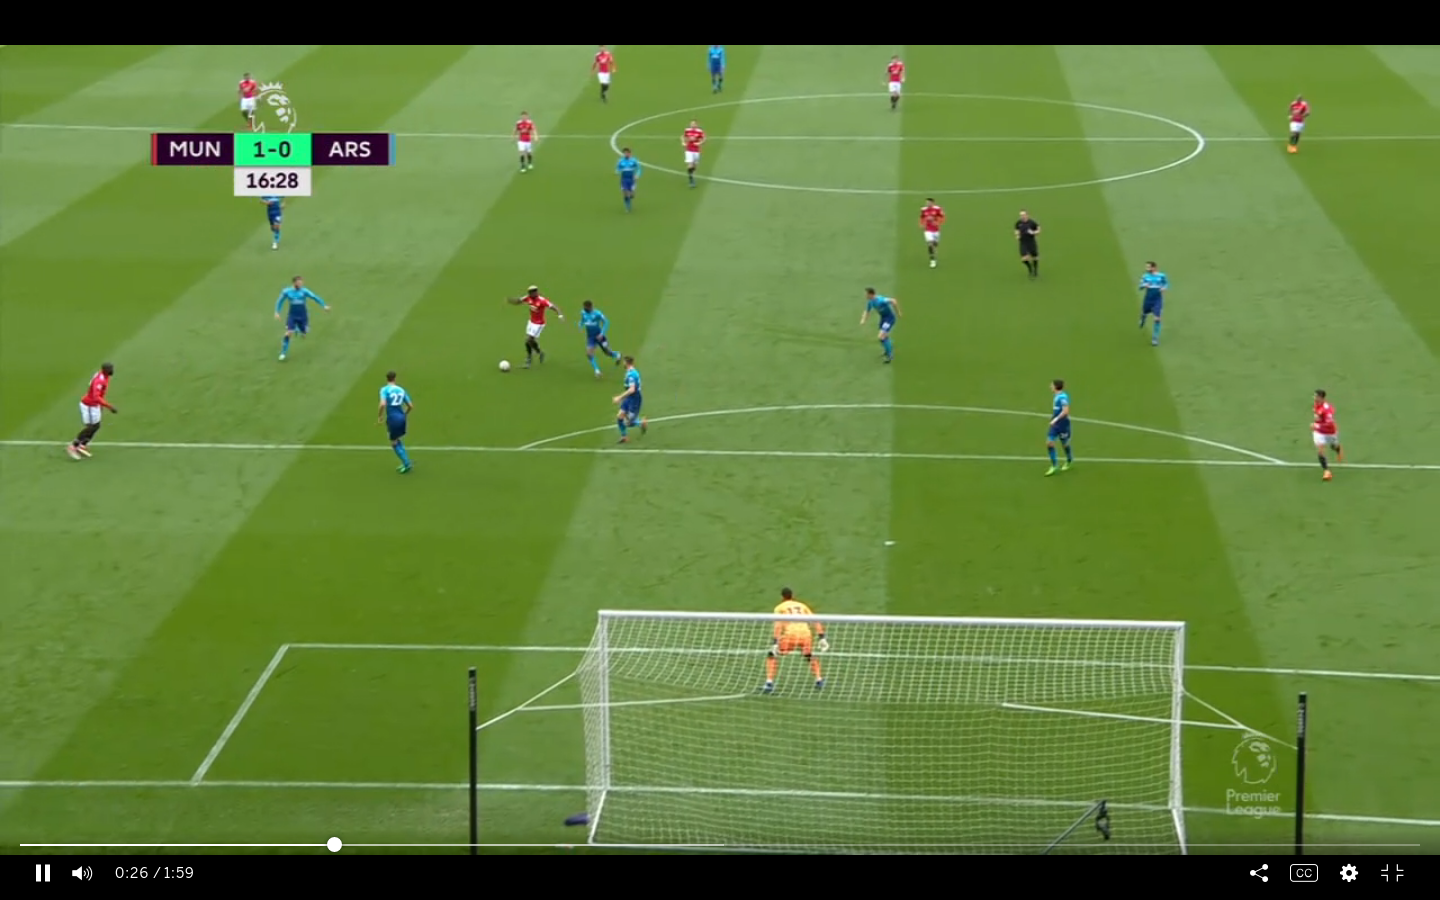referee: (1012, 208, 1044, 279)
soccer player: (759, 580, 830, 699), (368, 366, 422, 477), (268, 274, 332, 368), (73, 356, 119, 472), (508, 280, 561, 368), (1304, 382, 1348, 488), (855, 280, 905, 369), (1039, 371, 1078, 480), (572, 297, 622, 380), (612, 356, 653, 445), (1133, 254, 1173, 346), (910, 192, 952, 274), (504, 109, 539, 180), (590, 45, 627, 108), (612, 142, 641, 216), (256, 191, 292, 249), (676, 120, 704, 189), (1284, 92, 1312, 154), (236, 69, 262, 134), (885, 48, 910, 112), (708, 45, 725, 91)
soccerball: (490, 351, 512, 377)
